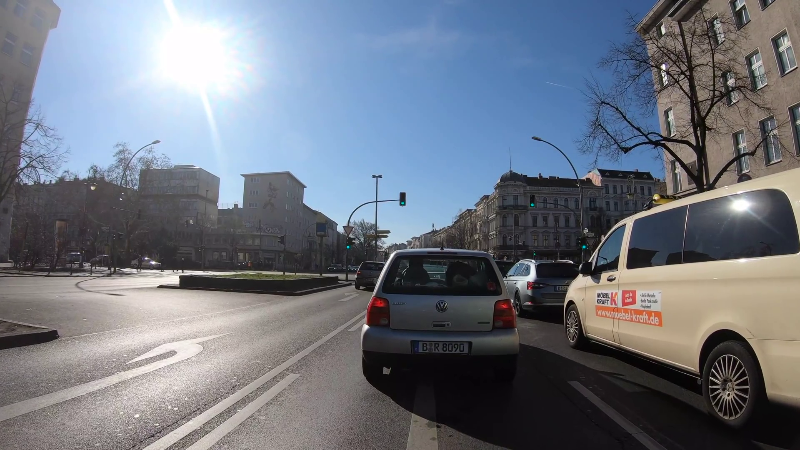Plate: (407, 339, 473, 357), (551, 284, 569, 293)
